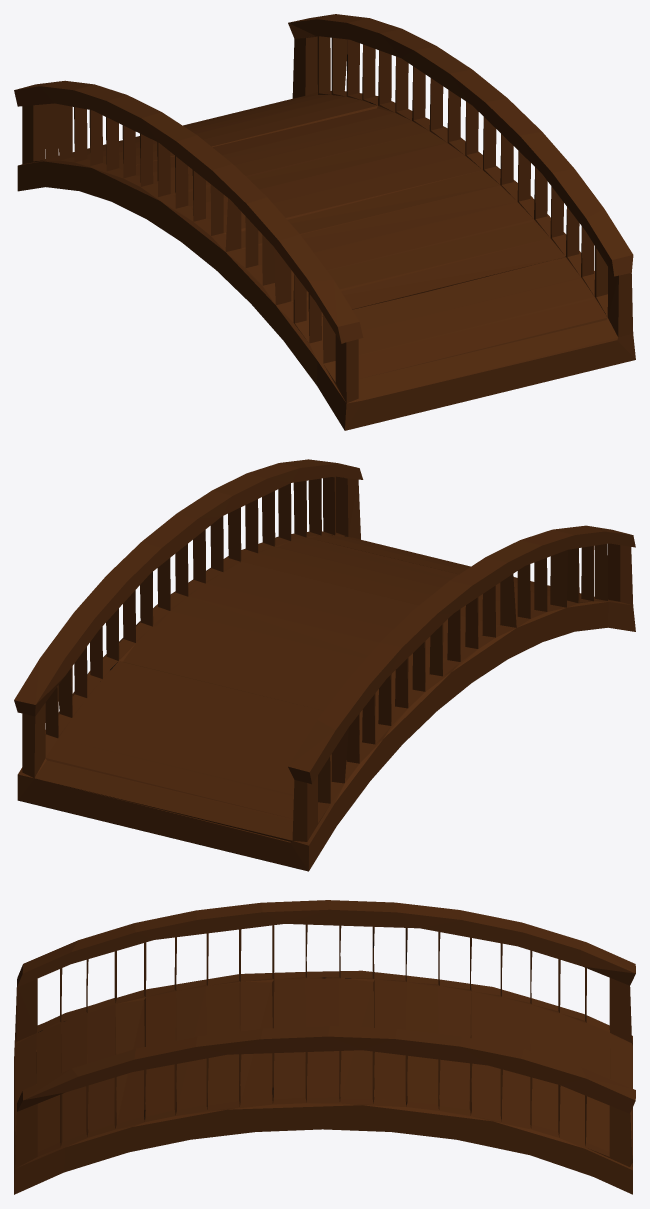
File: WoodBridge.fbx
The picture shows the model from 3 angles, top to bottom: view 1: azimuth 30°, elevation 25°; view 2: azimuth 150°, elevation 25°; view 3: azimuth 270°, elevation 25°; orthographic projection. The views are drawn at different scales.
Parts seen in each view (by area): view 1: WoodBridge; view 2: WoodBridge; view 3: WoodBridge.
Boxes of the visible parts, <box> form: WoodBridge: <box>14,14,635,430</box>; WoodBridge: <box>14,459,635,871</box>; WoodBridge: <box>14,900,635,1194</box>.
Size of the model in its own units: 339 by 185 by 653.
